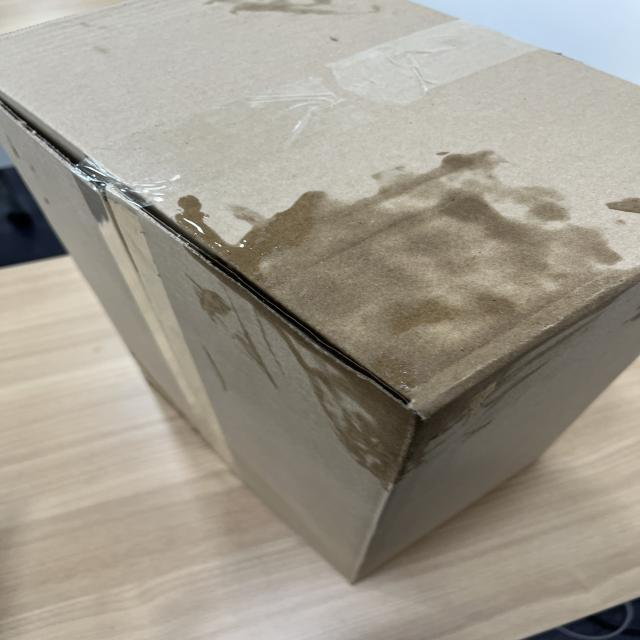hole: (493, 564, 637, 640)
wet: (192, 153, 637, 482)
